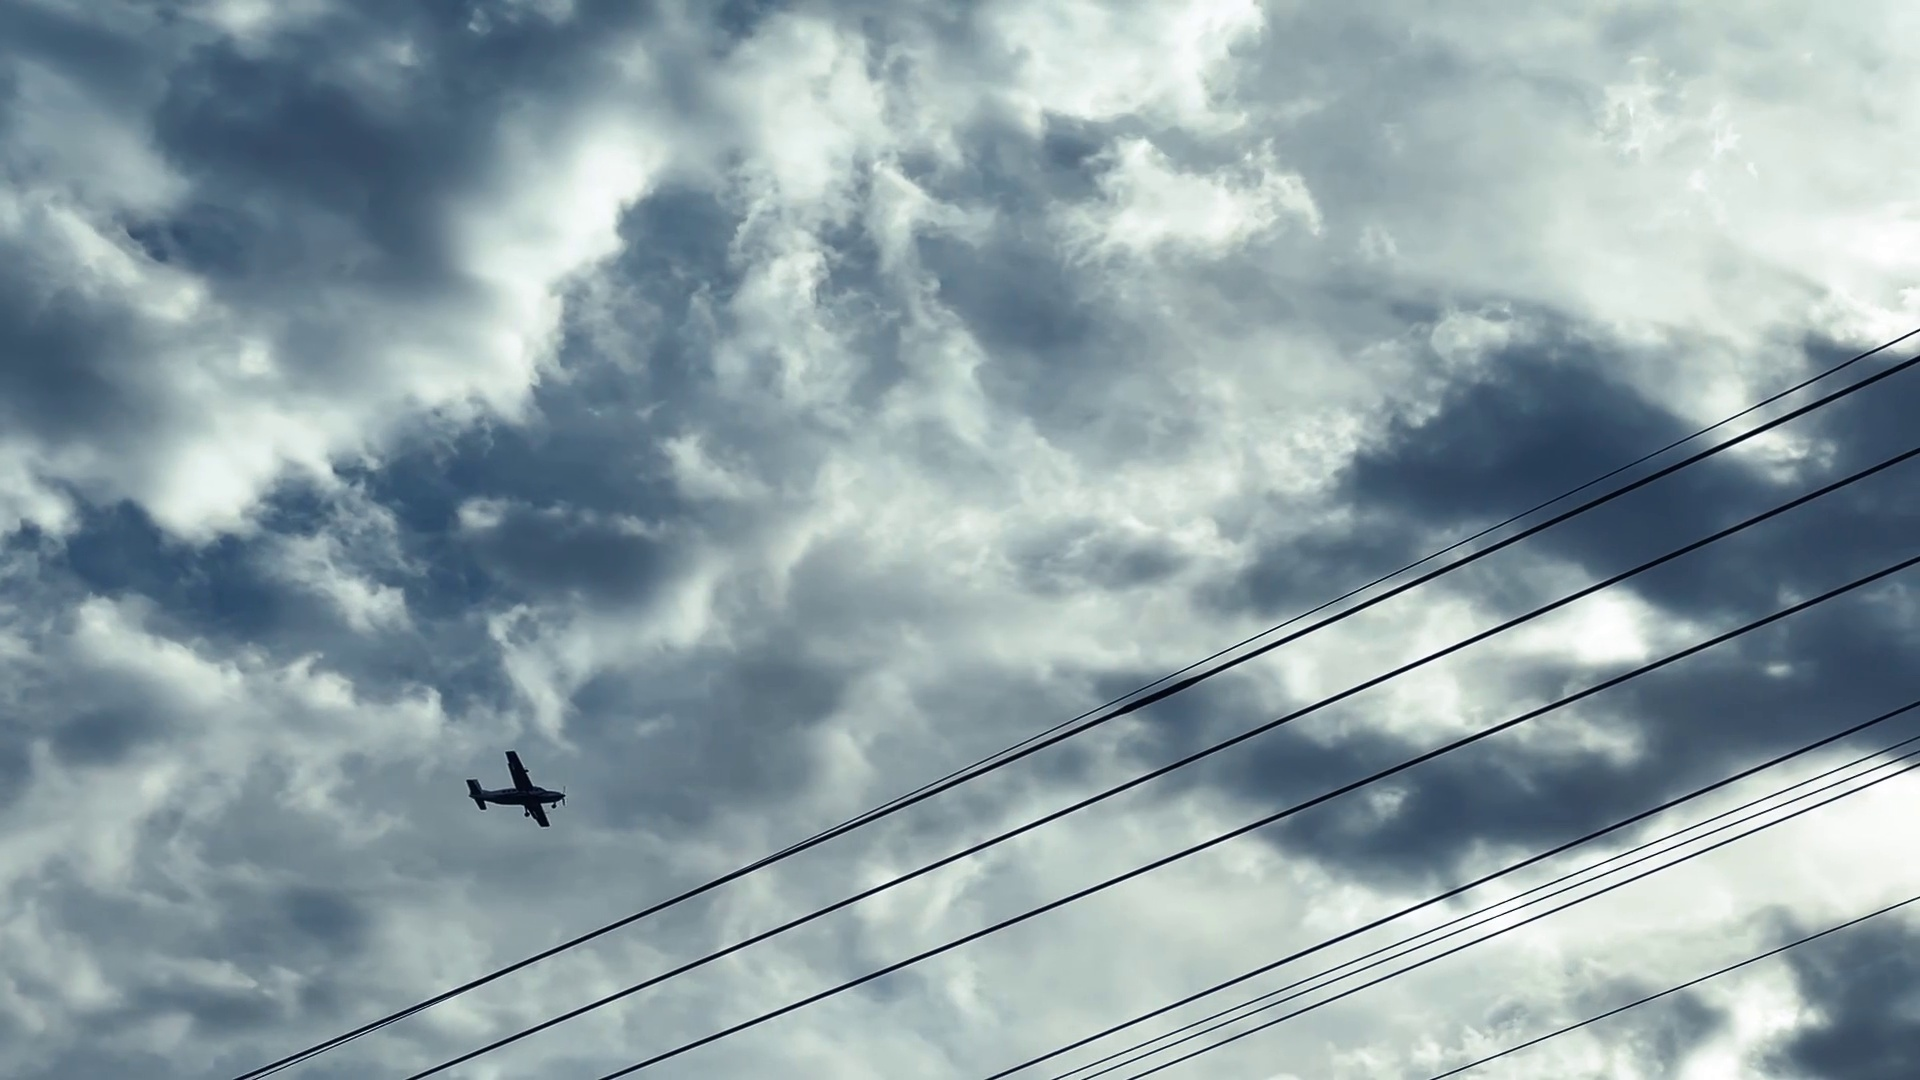plane: (465, 752, 564, 828)
